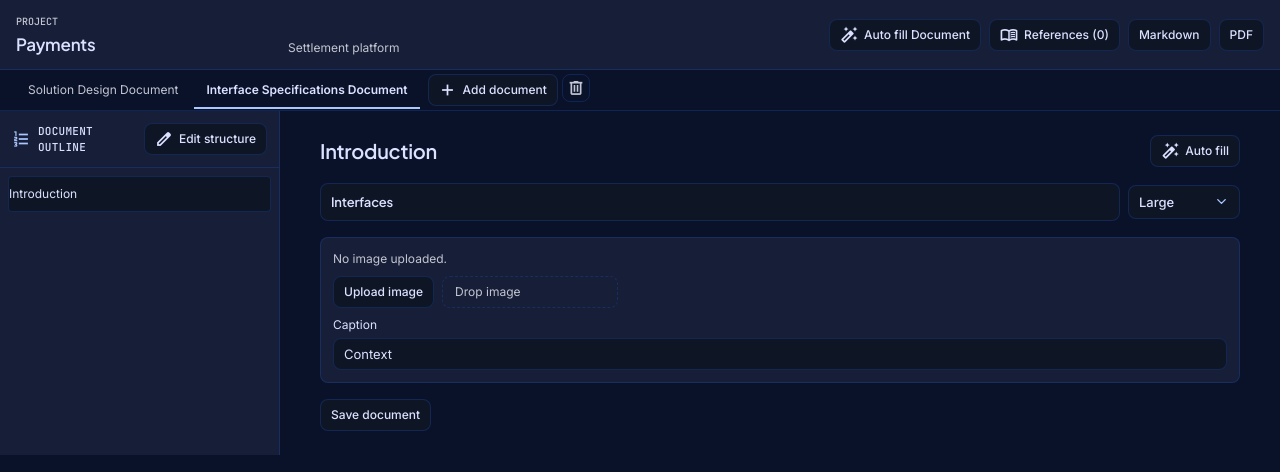
Scenario: opens the document from the route and switches tabs
Expected: the heading "Introduction" is shown, [320, 137, 437, 165]
Expected: the field named "Header" holds "Interfaces", [320, 183, 1120, 221]
Click the tab "Solution Design Document".
click(103, 90)  # box [16, 72, 190, 108]
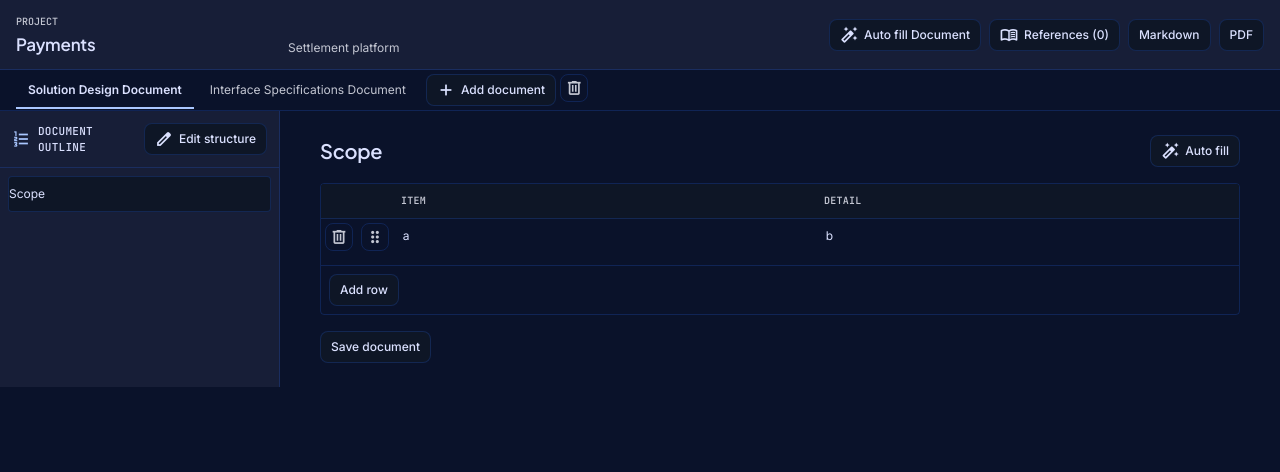
Now the heading "Scope" is shown, box [320, 137, 382, 165]
